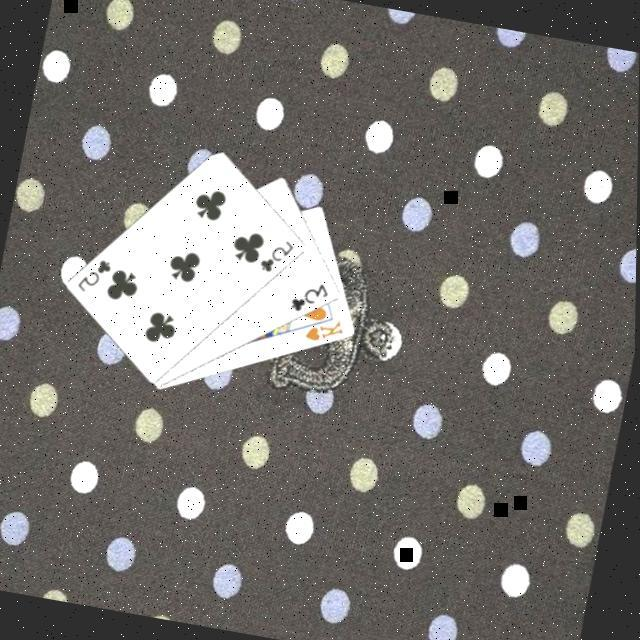3C: (288, 276, 336, 321)
5C: (76, 252, 120, 300), (258, 234, 300, 280)
KH: (303, 312, 350, 350)
